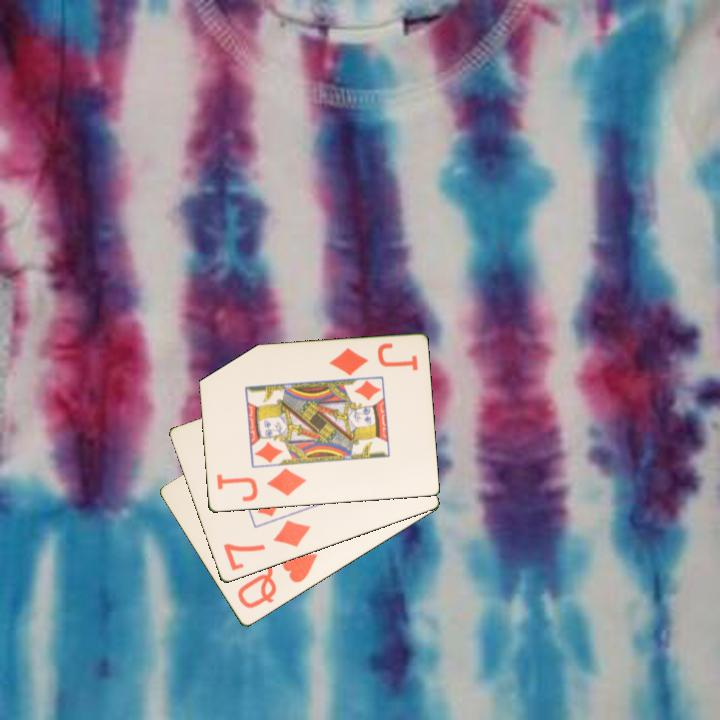7d: (220, 517, 314, 574)
Jd: (212, 465, 309, 505), (325, 340, 420, 379)
Qh: (234, 550, 320, 612)
